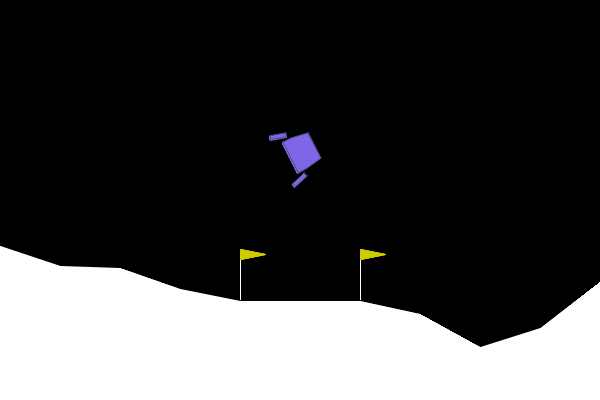lander: (267, 118, 329, 189)
